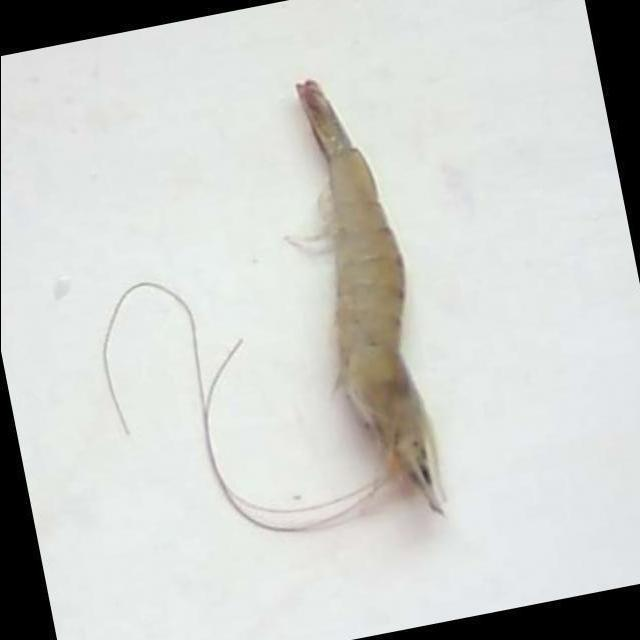shrimp: (296, 80, 446, 517)
